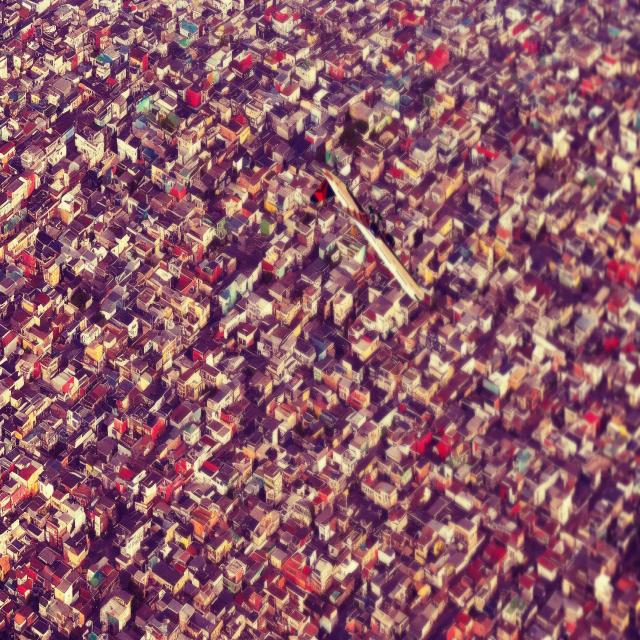airplane: (311, 160, 425, 304)
